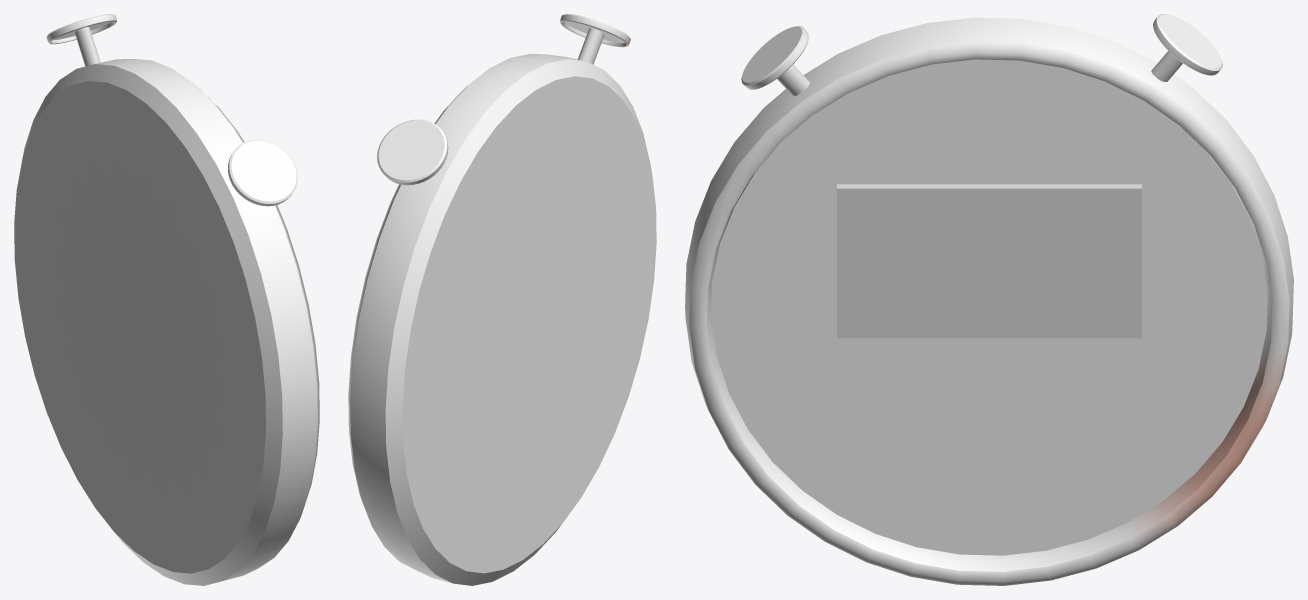
Rendered from StopWatch.fbx.
3 renders of one model, left to right at view 1: azimuth 30°, elevation 25°; view 2: azimuth 150°, elevation 25°; view 3: azimuth 270°, elevation 25°, orthographic. The views are drawn at different scales.
Visible parts, largest first — view 1: Watch, LeftPress, RightPress, Cylinder.001; view 2: Watch, RightPress, LeftPress, Cylinder; view 3: Watch, stopwatch, Cube.001, RightPress, LeftPress.
Part boxes in pixels (box(x1,y1,x2,y2)): Watch: box(14, 58, 319, 585); LeftPress: box(228, 139, 297, 206); RightPress: box(46, 14, 116, 44); Cylinder.001: box(75, 26, 100, 66); Watch: box(348, 54, 656, 585); RightPress: box(377, 119, 448, 185); LeftPress: box(560, 14, 630, 47); Cylinder: box(577, 28, 604, 64); Watch: box(685, 17, 1293, 585); stopwatch: box(839, 189, 1139, 337); Cube.001: box(837, 184, 1141, 338); RightPress: box(1153, 14, 1222, 75); LeftPress: box(741, 26, 808, 89).
Size of the model in its own units: 12.09 by 90.14 by 88.8.
